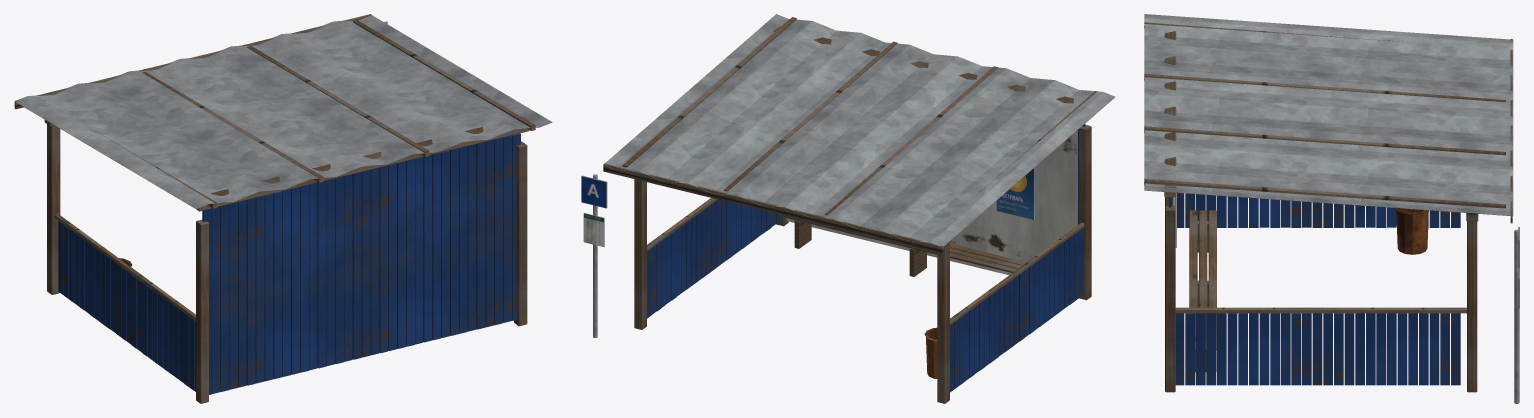
The model's file is pr_rstop.glb.
The picture shows the model from 3 angles, left to right: view 1: azimuth 30°, elevation 25°; view 2: azimuth 150°, elevation 25°; view 3: azimuth 270°, elevation 25°; orthographic projection. The views are drawn at different scales.
Parts seen in each view (by area): view 1: pr_rstop; view 2: pr_rstop; view 3: pr_rstop.
Part boxes in pixels (box(x1,y1,x2,y2)): pr_rstop: box(14, 14, 552, 403); pr_rstop: box(581, 14, 1115, 403); pr_rstop: box(1144, 14, 1519, 403).
Size of the model in its own units: 5.91 by 3.13 by 5.04.
1 material, 1 textured.
